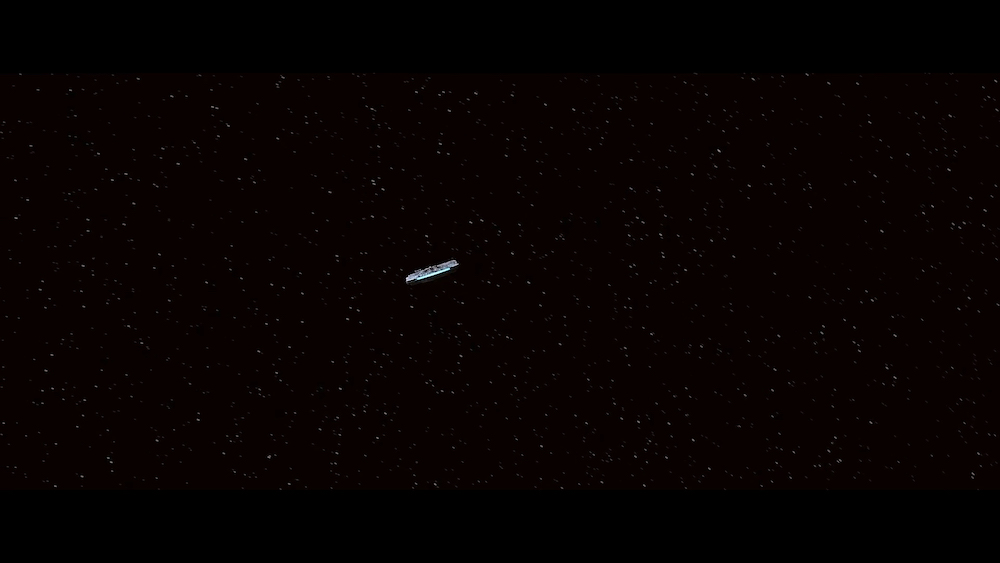Millennium Falcon: (407, 261, 460, 287)
